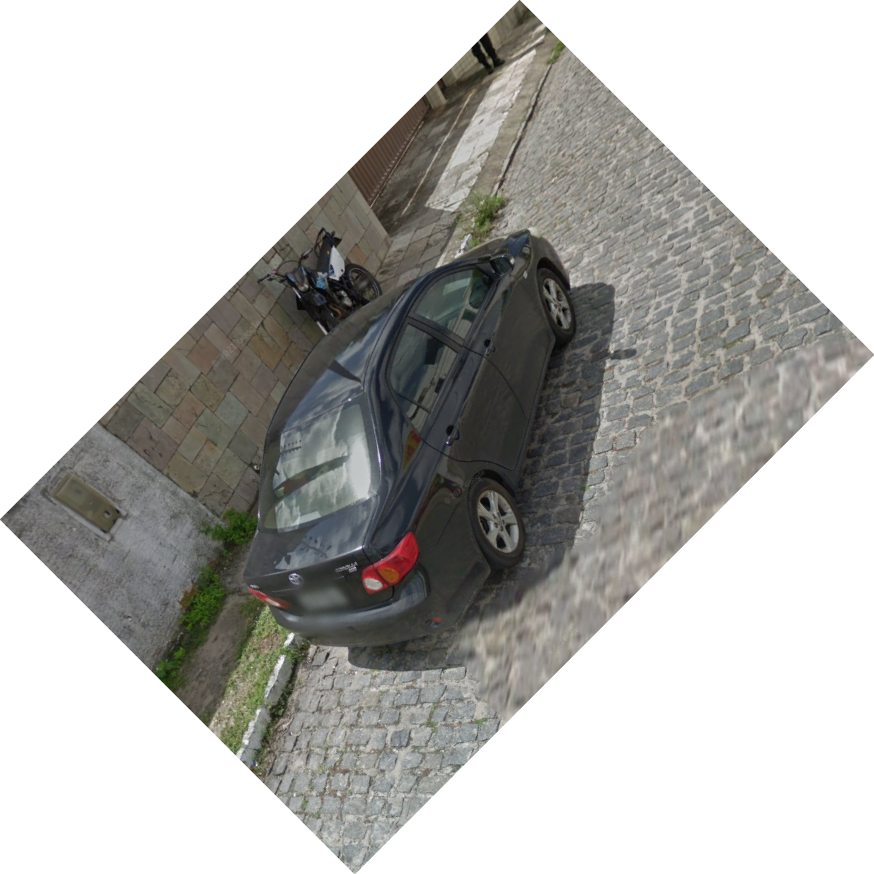car: (241, 227, 580, 658)
